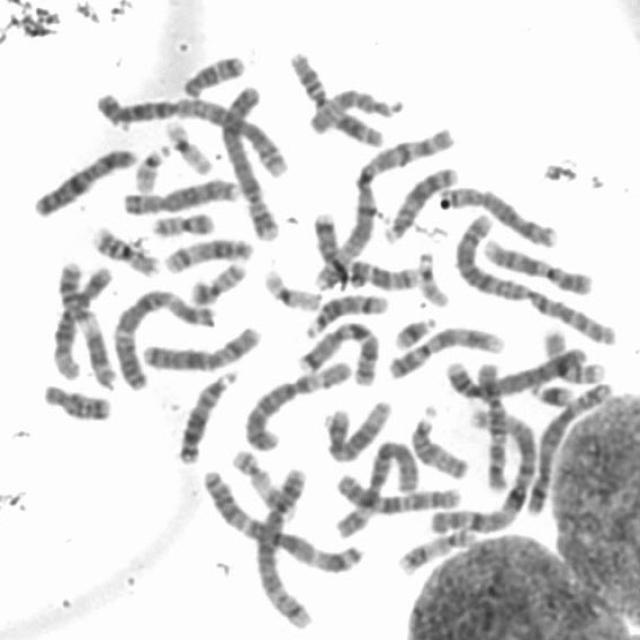A1: (308, 122, 458, 291), (425, 405, 540, 537)
A2: (451, 211, 620, 348), (91, 90, 291, 179)
A3: (199, 464, 363, 576), (109, 284, 215, 392)
B4: (218, 82, 281, 242), (440, 341, 589, 400)
B5: (521, 377, 615, 517), (253, 462, 315, 633)
C10: (335, 472, 461, 518), (472, 354, 509, 491)
C11: (288, 51, 385, 150), (56, 260, 119, 396)
C12: (49, 265, 112, 382), (324, 395, 394, 466)
C6: (240, 358, 354, 452), (330, 437, 420, 540)
C7: (313, 211, 423, 293), (297, 317, 380, 388)
C8: (435, 181, 558, 249), (118, 173, 241, 217)
C9: (478, 236, 593, 296), (385, 323, 506, 380)
D13: (379, 162, 460, 245), (174, 366, 238, 464)
D14: (301, 291, 388, 339), (161, 234, 254, 276)
D15: (304, 85, 402, 136), (407, 407, 470, 480)
E16: (540, 328, 608, 388), (89, 222, 160, 278)
E17: (228, 445, 300, 521), (394, 524, 478, 576)
E18: (178, 51, 246, 100), (40, 381, 112, 422)
F19: (161, 116, 212, 176), (260, 266, 322, 314)
F20: (185, 258, 248, 307), (148, 208, 216, 238)
G21: (392, 312, 438, 350), (526, 378, 575, 407)
G22: (131, 141, 172, 195), (416, 249, 450, 307)
X: (28, 145, 138, 219), (137, 323, 263, 374)
